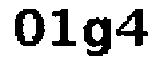0: (13, 7, 46, 49)
1: (50, 6, 80, 50)
4: (115, 4, 153, 49)
g: (83, 15, 114, 60)
